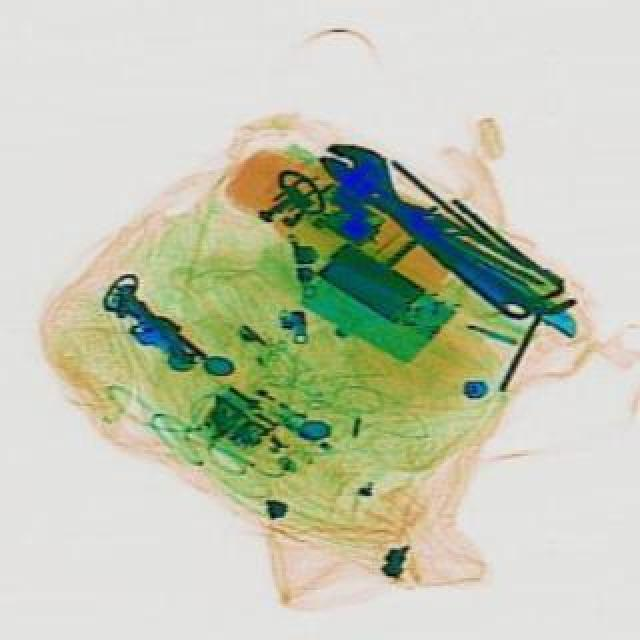scissors: (314, 132, 554, 336)
